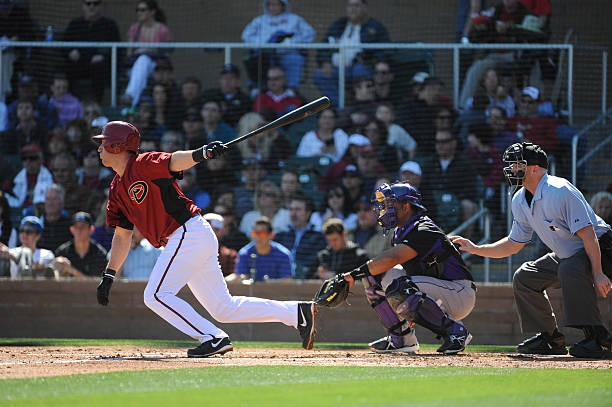bita: (215, 99, 329, 150)
